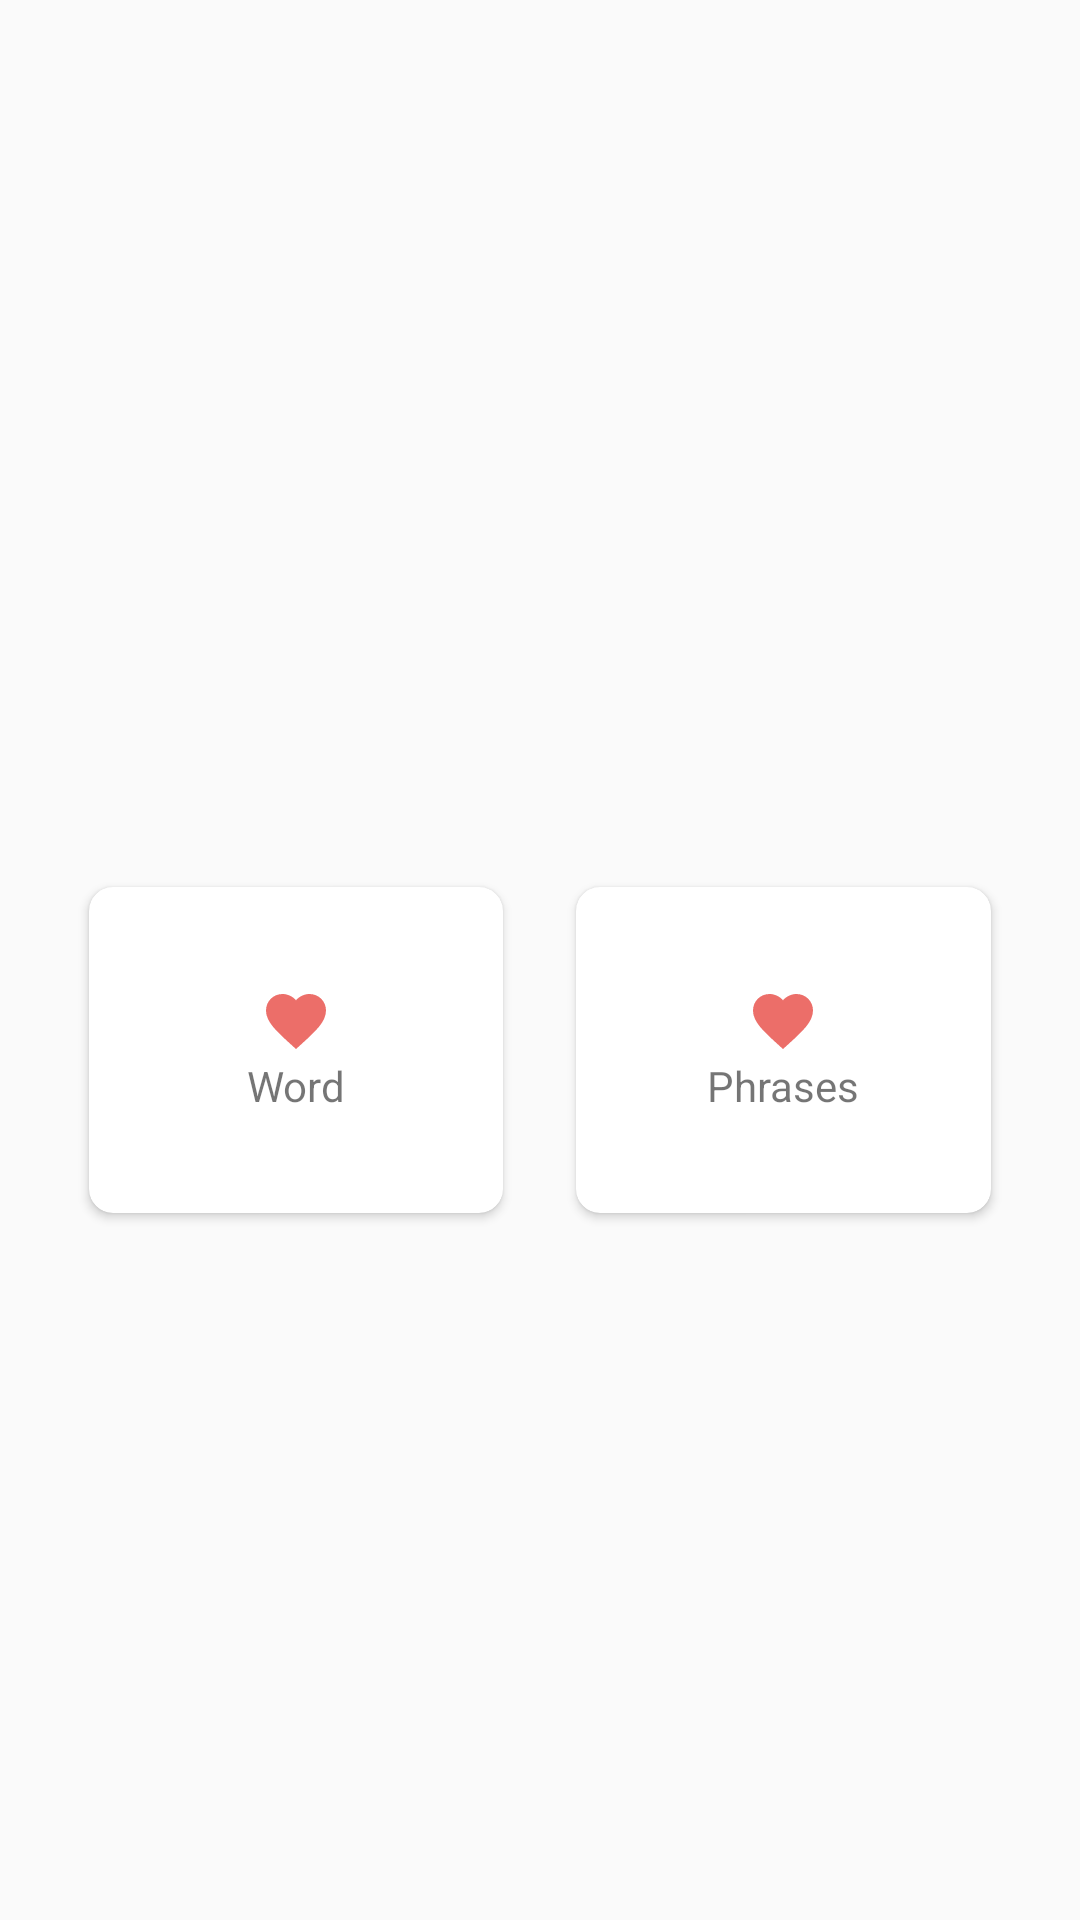

Where to tap for icons on this 1080w x 1920h app screen, as point (x, y):
favorite: point (296, 1021), point (783, 1021)
